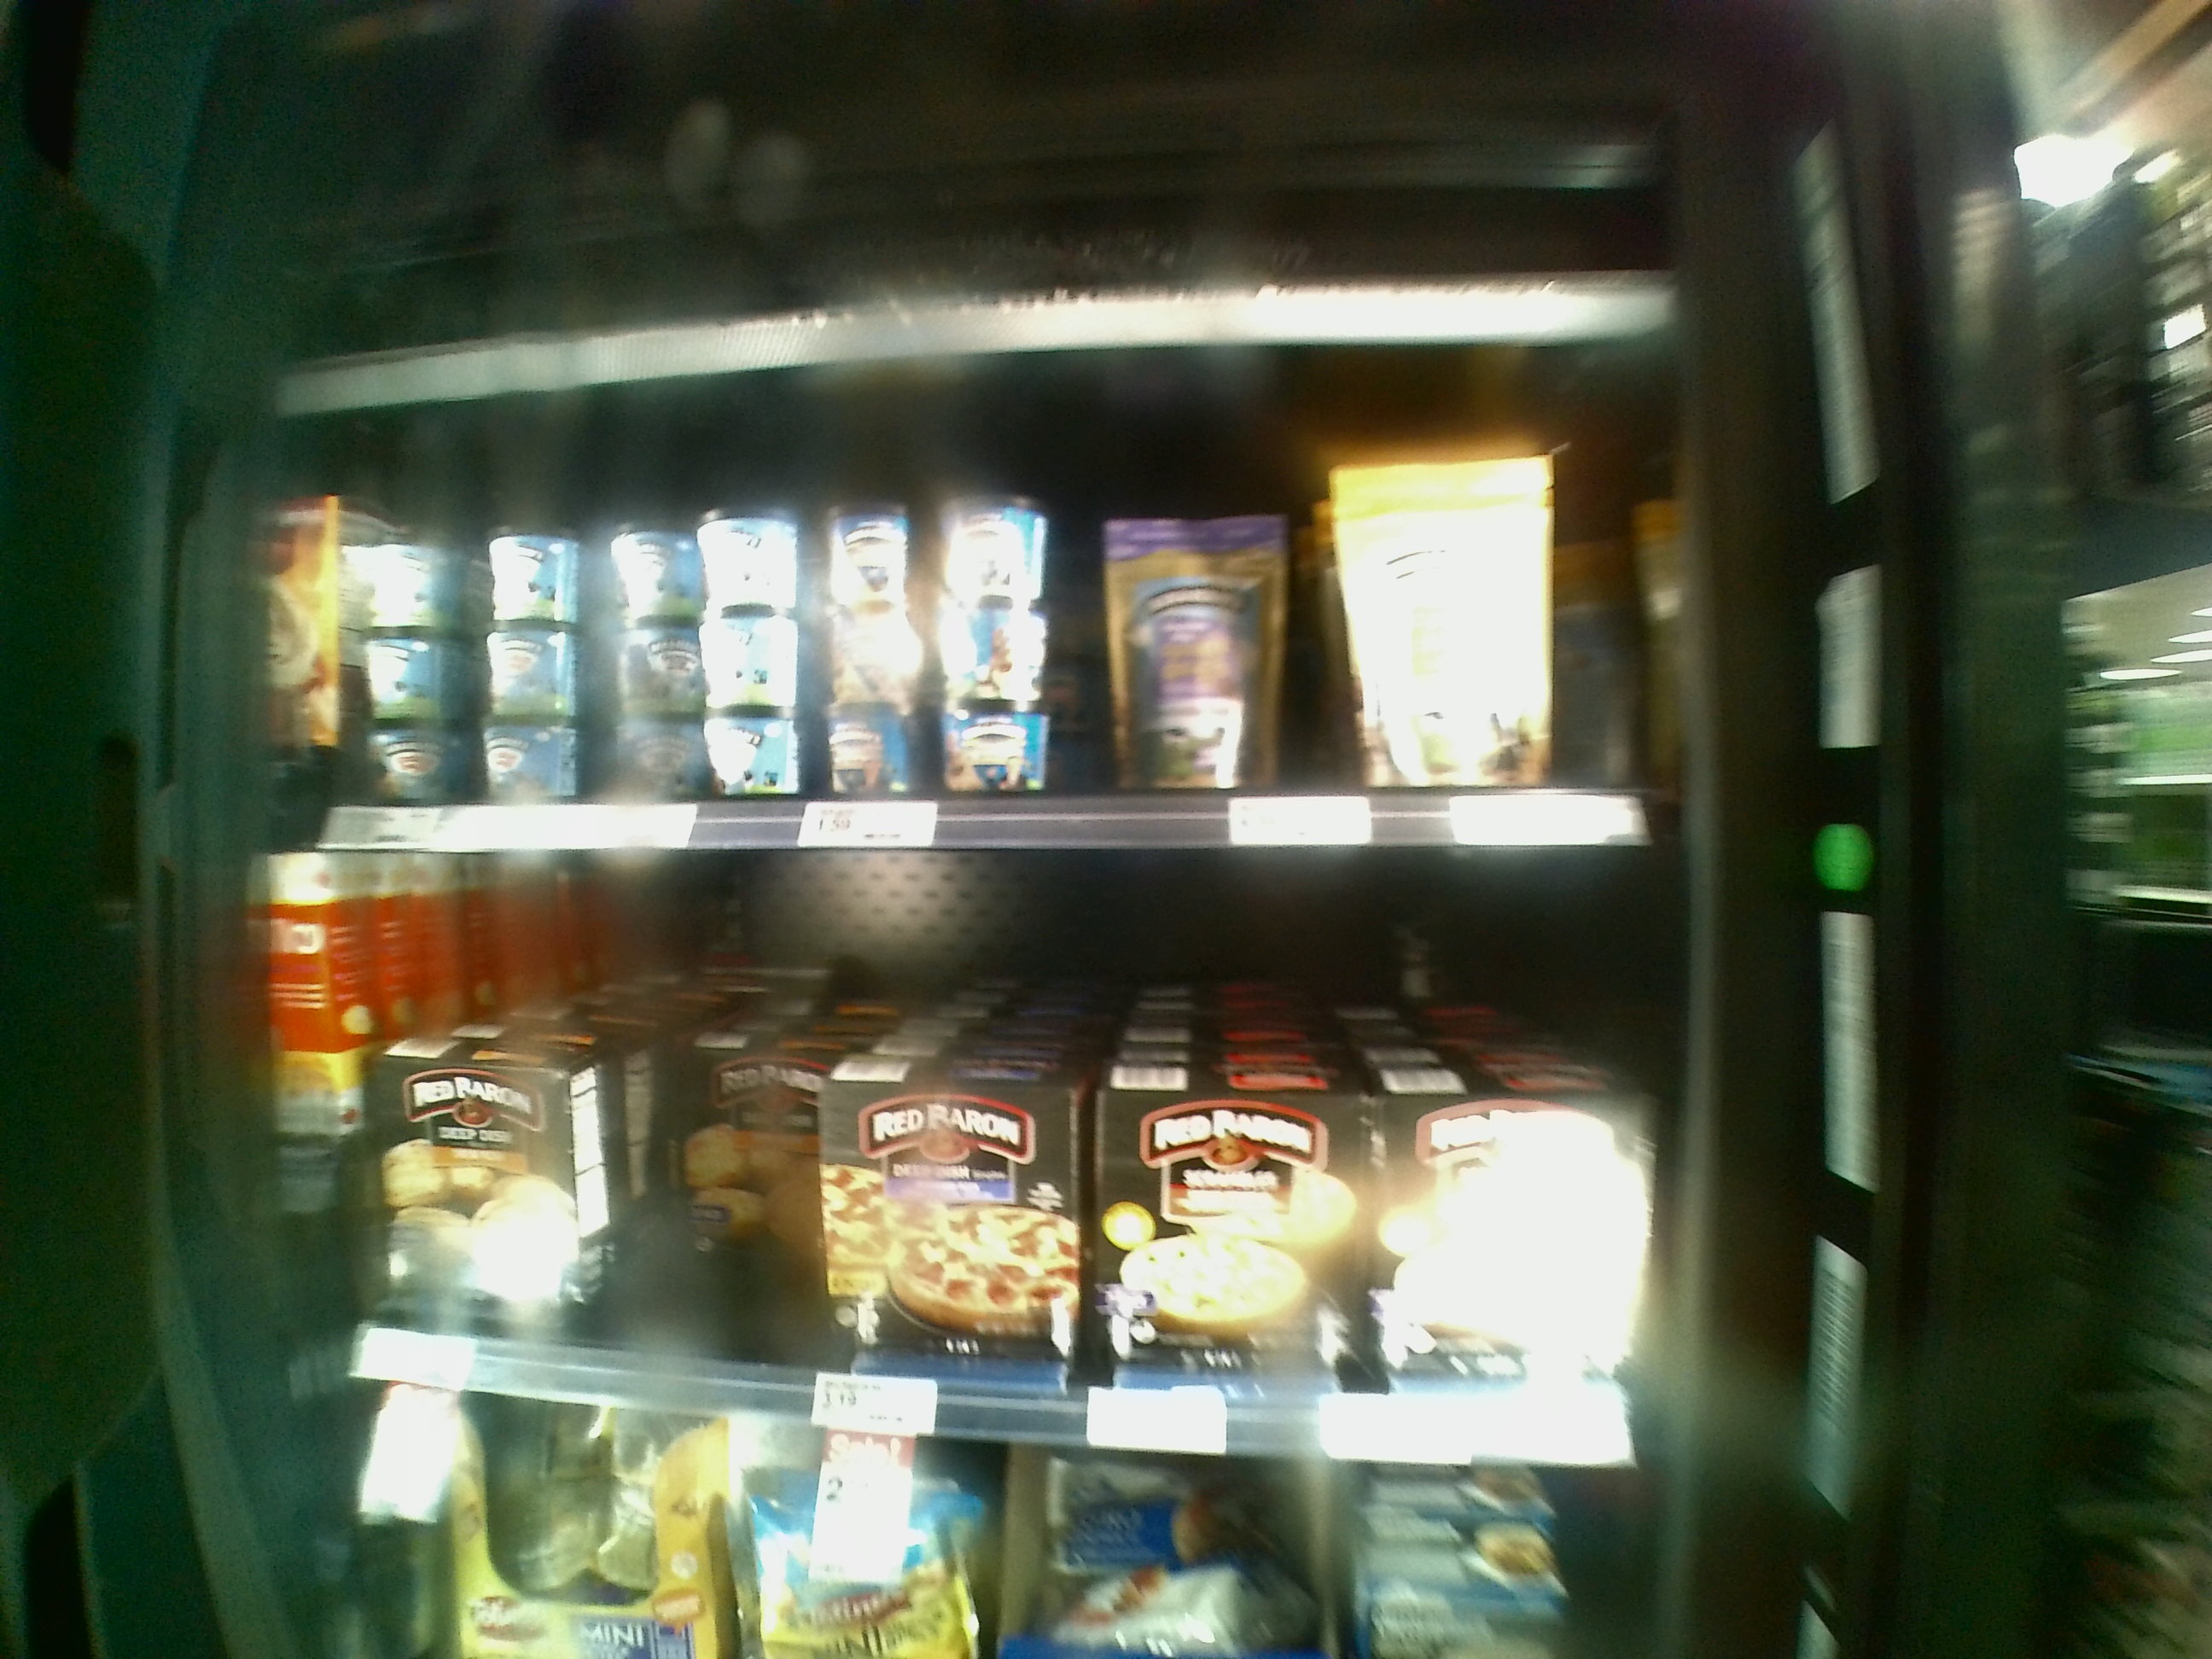shelf: (329, 870, 1667, 1467), (300, 368, 1679, 856)
